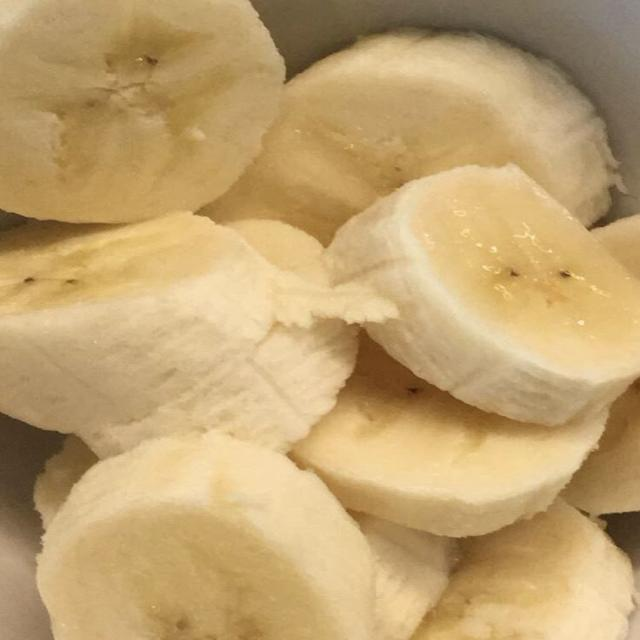banana slice: (0, 214, 356, 457), (206, 31, 615, 242), (328, 165, 639, 425), (38, 433, 373, 639), (0, 0, 284, 222), (293, 340, 606, 537), (414, 502, 634, 639), (227, 219, 397, 327), (353, 514, 458, 639), (354, 514, 458, 639), (563, 382, 639, 514), (564, 382, 639, 514), (227, 219, 330, 285), (34, 435, 99, 528), (593, 215, 639, 278)
